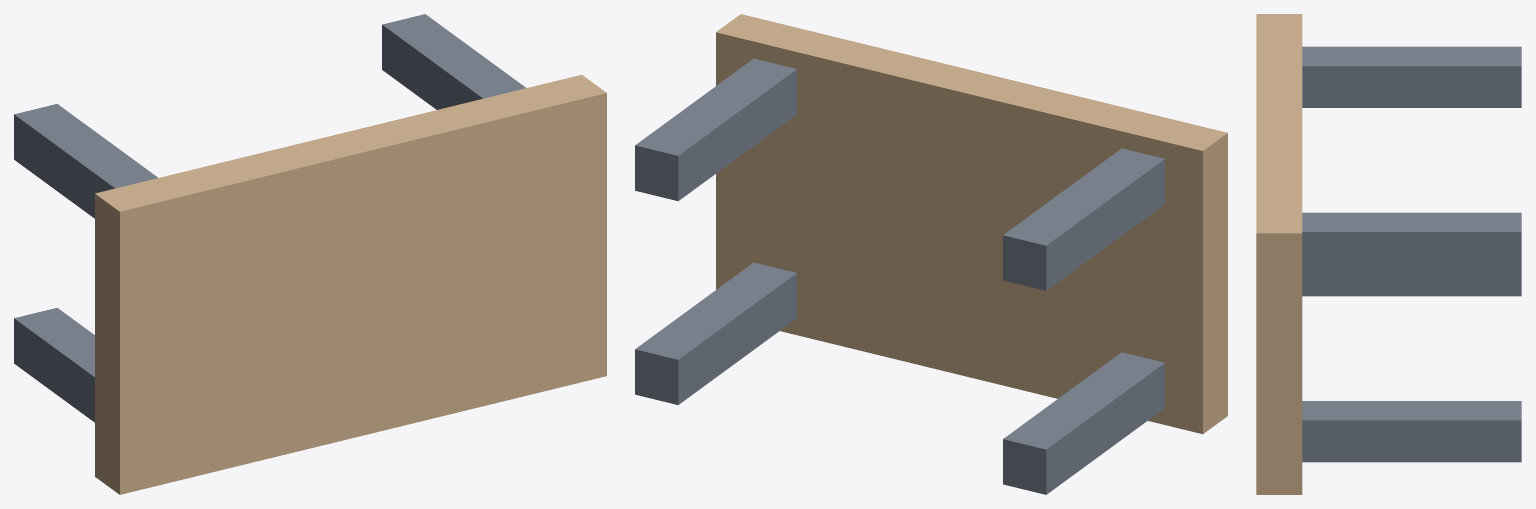
File: coffee_table.glb
The picture shows the model from 3 angles, left to right: view 1: azimuth 30°, elevation 25°; view 2: azimuth 150°, elevation 25°; view 3: azimuth 270°, elevation 25°; orthographic projection. The views are drawn at different scales.
Visible parts, largest first — view 1: top_0, leg_3, leg_4, leg_1; view 2: top_0, leg_1, leg_2, leg_3, leg_4; view 3: top_0, leg_2, leg_3, leg_4, leg_1.
Part boxes in pixels (left/top/right/bottom): top_0: left=95, top=74, right=606, bottom=494; leg_3: left=14, top=104, right=157, bottom=218; leg_4: left=382, top=14, right=526, bottom=109; leg_1: left=14, top=307, right=94, bottom=422; top_0: left=716, top=14, right=1227, bottom=434; leg_1: left=1003, top=352, right=1164, bottom=494; leg_2: left=635, top=262, right=796, bottom=404; leg_3: left=1003, top=148, right=1164, bottom=290; leg_4: left=635, top=58, right=796, bottom=201; top_0: left=1256, top=14, right=1302, bottom=494; leg_2: left=1302, top=401, right=1521, bottom=462; leg_3: left=1302, top=46, right=1521, bottom=107; leg_4: left=1302, top=212, right=1521, bottom=273; leg_1: left=1302, top=274, right=1521, bottom=296.
Size of the model in its own units: 0.9 by 0.5 by 0.46.
